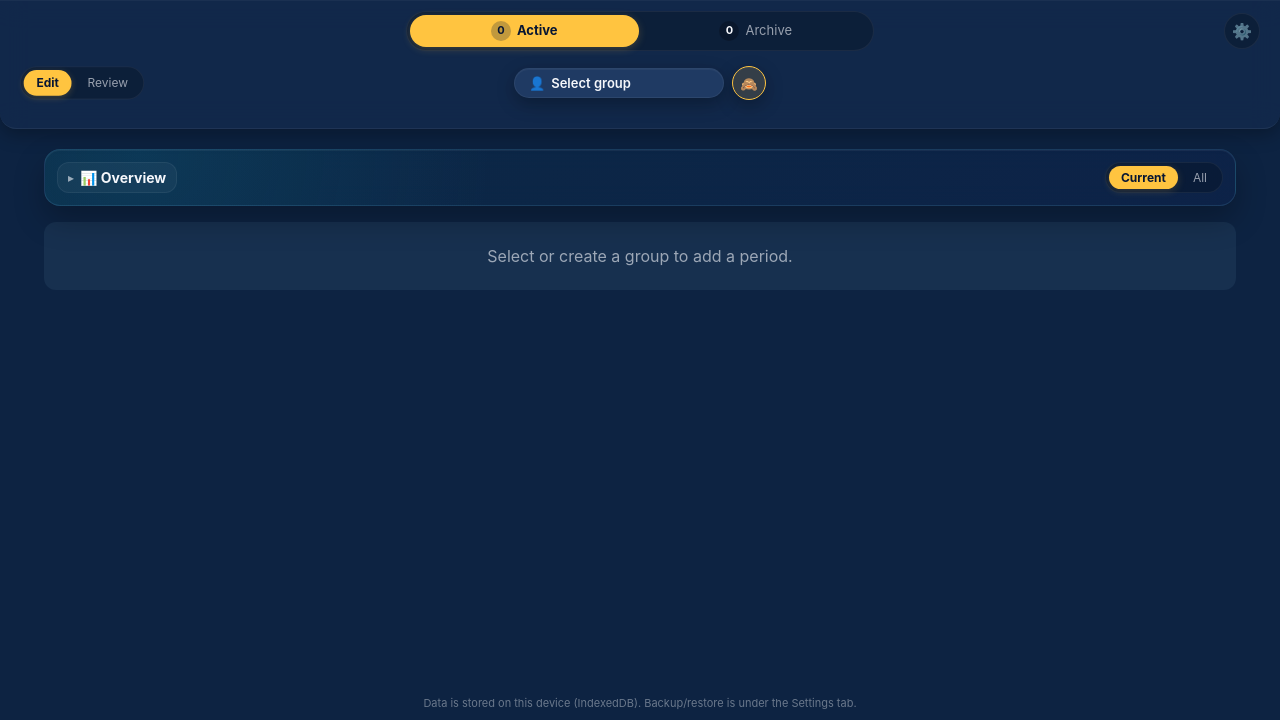
Test: Client table CRUD (end-to-end against real IndexedDB) › a newly created period starts collapsed, matching the old app
Press the mouse on the button with test id "group-switcher-btn" at (619, 83), box [514,68,724,98]
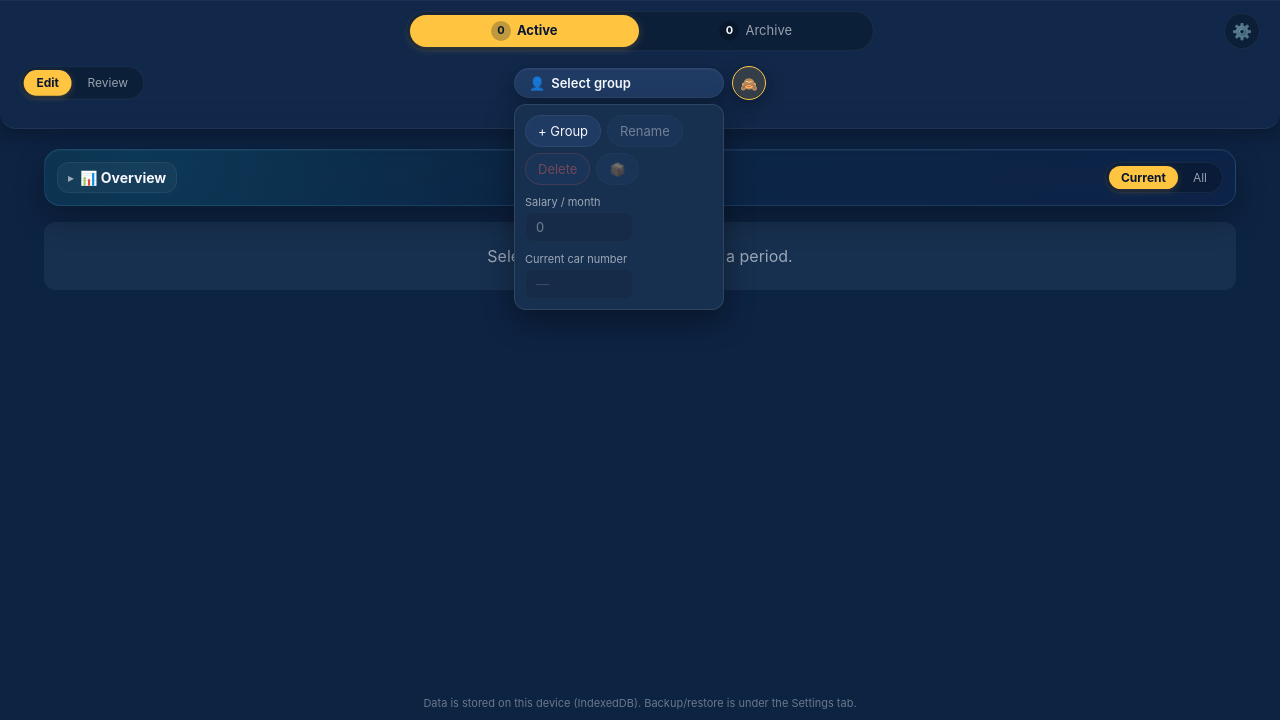
Click the button "+ Group".
click(563, 131)  # box [525,115,601,147]
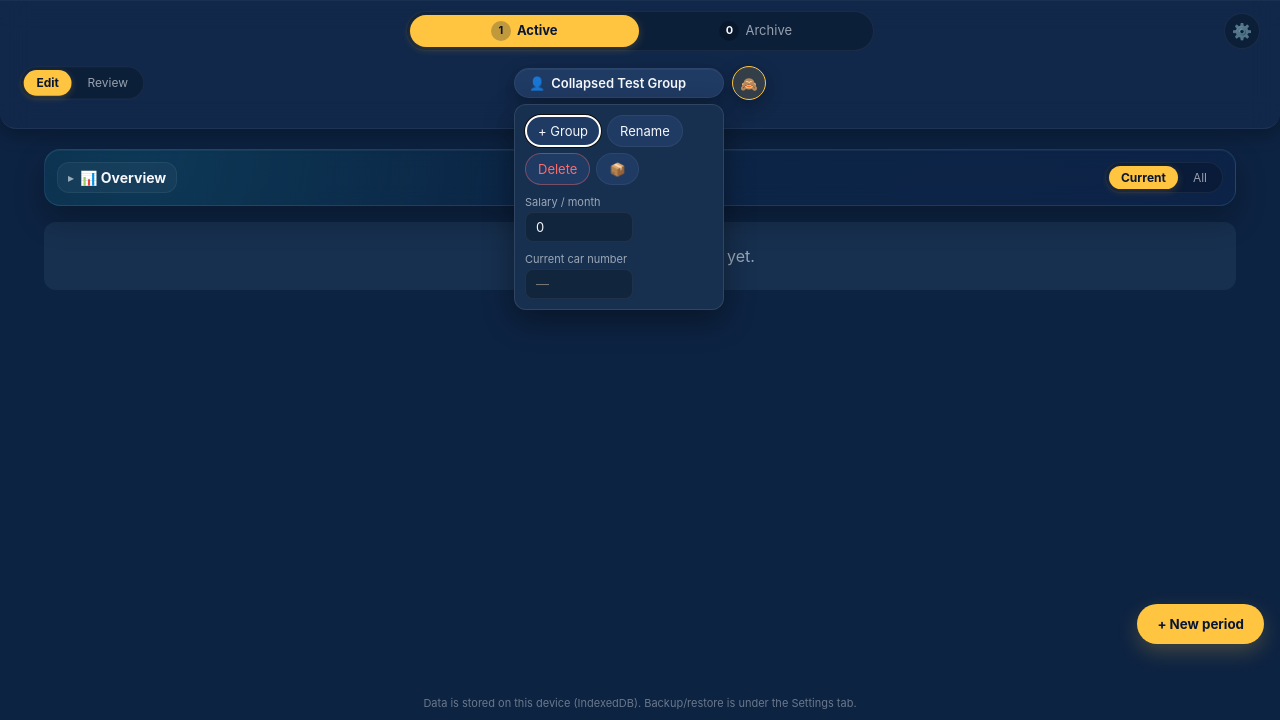
Click the button "+ New period".
click(1201, 624)  # box [1137,604,1264,644]
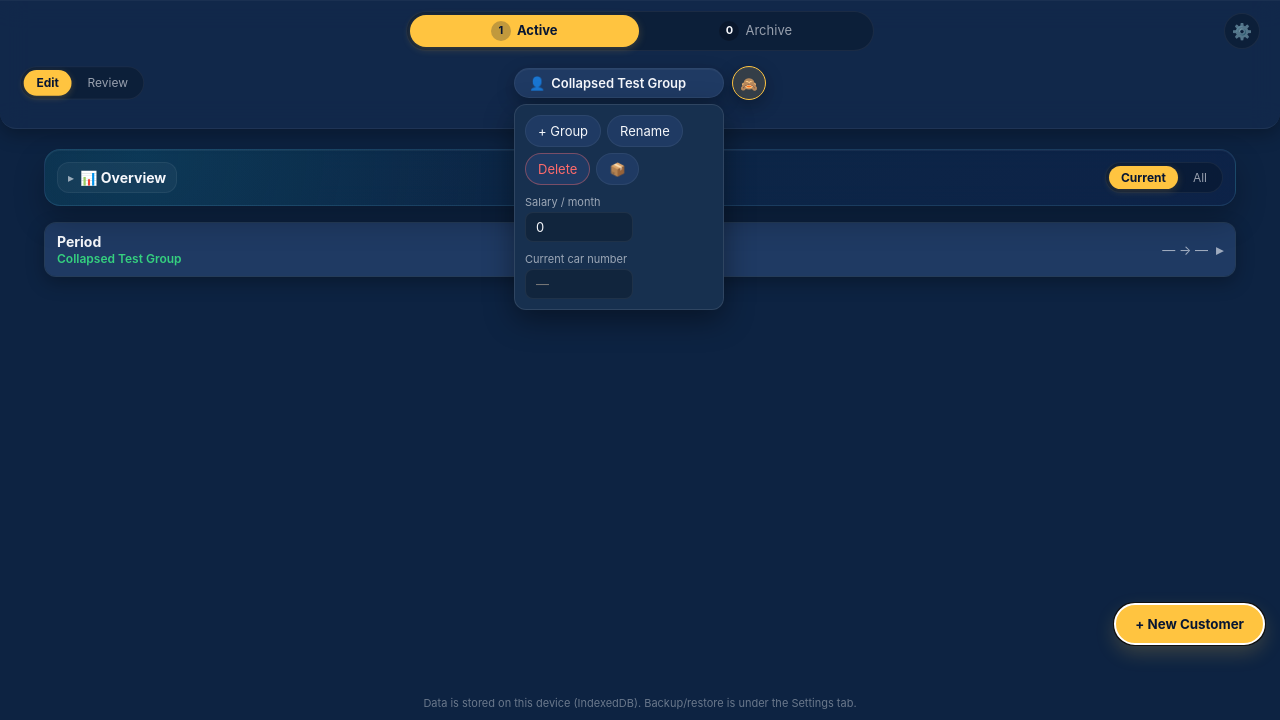
Expected: the button "+ Add client" is not shown
Click the button with test id "period-collapse-btn".
click(79, 242)  # box [45,223,1235,276]
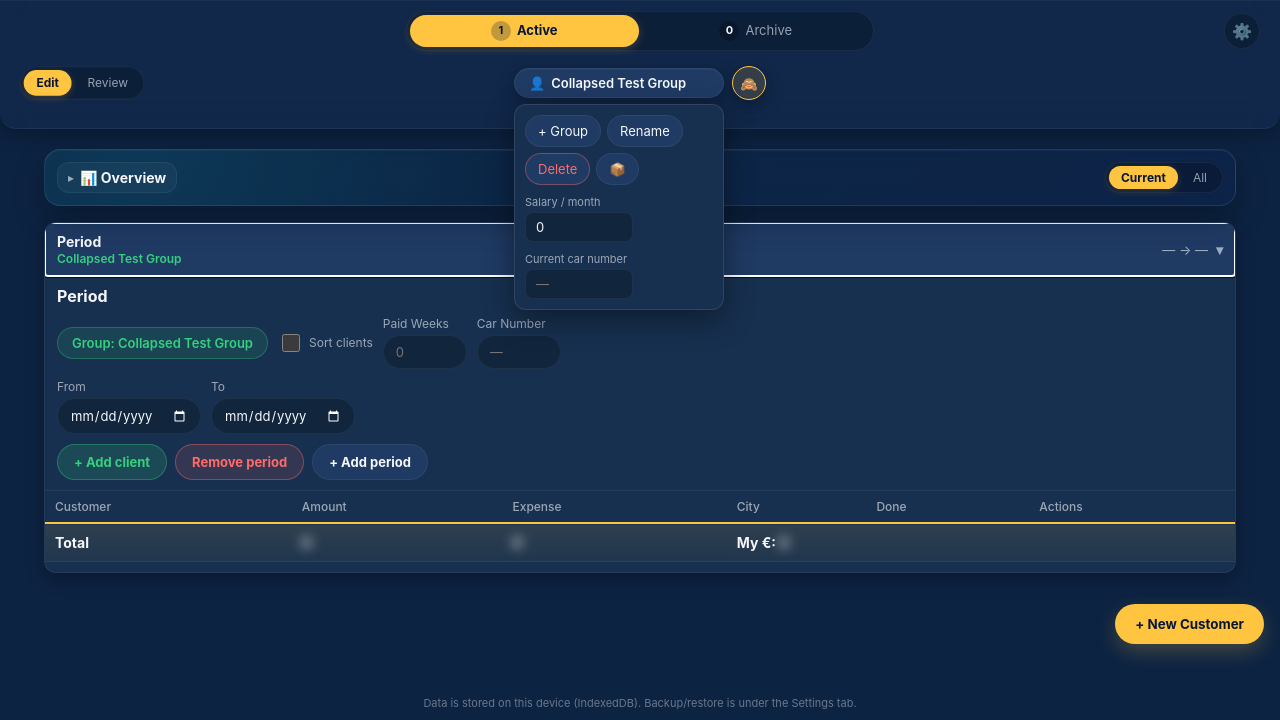
Expected: the table is shown, [45,491,1235,562]
